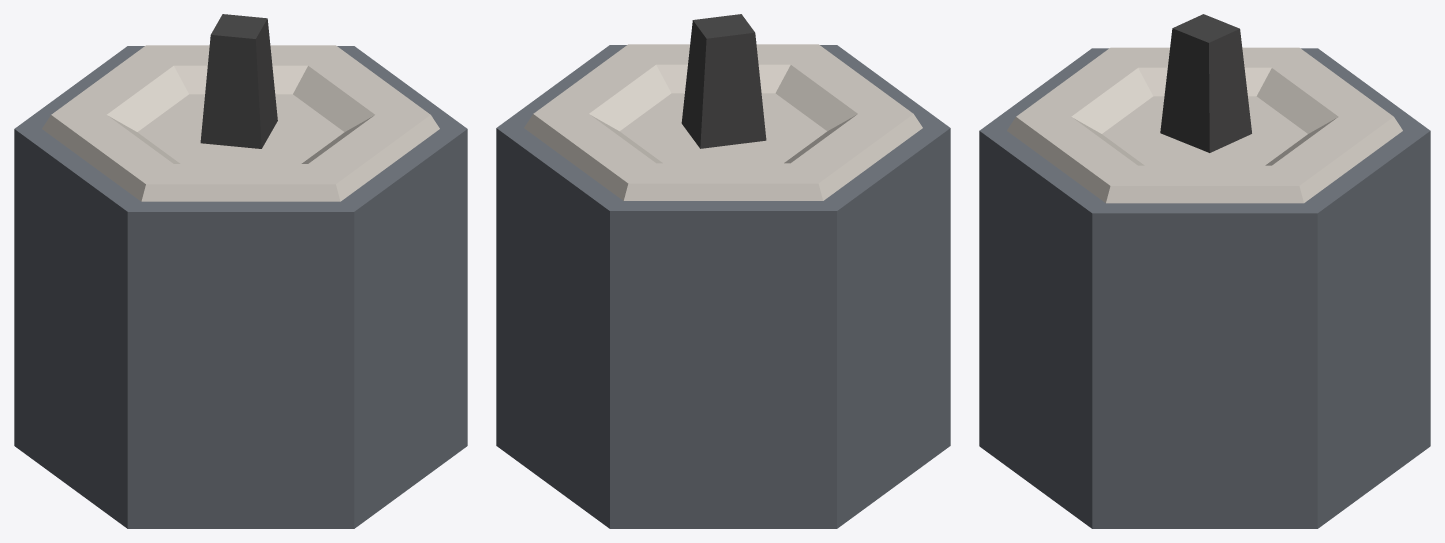
The model's file is SM_Prop_Candles_03.fbx.
3 renders of one model, left to right at view 1: azimuth 30°, elevation 25°; view 2: azimuth 150°, elevation 25°; view 3: azimuth 270°, elevation 25°, orthographic.
Visible parts, largest first — view 1: SM_Prop_Candles_03; view 2: SM_Prop_Candles_03; view 3: SM_Prop_Candles_03.
Part boxes in pixels (bbox=[...]): SM_Prop_Candles_03: bbox=[14, 14, 467, 528]; SM_Prop_Candles_03: bbox=[496, 14, 950, 528]; SM_Prop_Candles_03: bbox=[979, 14, 1430, 528].
Bounding box in the file's own units: 4.51 × 5.32 × 5.21.
